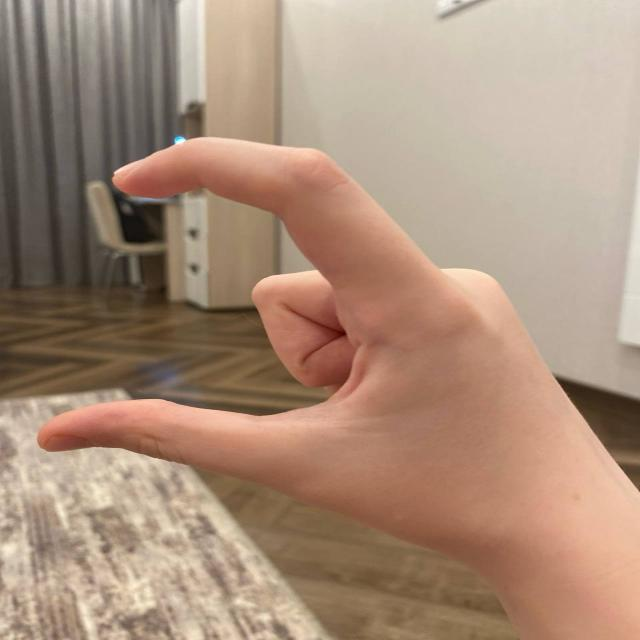uh: (35, 118, 603, 518)
